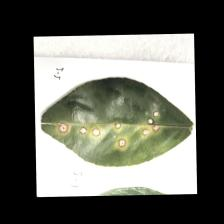canker: (52, 106, 164, 152)
